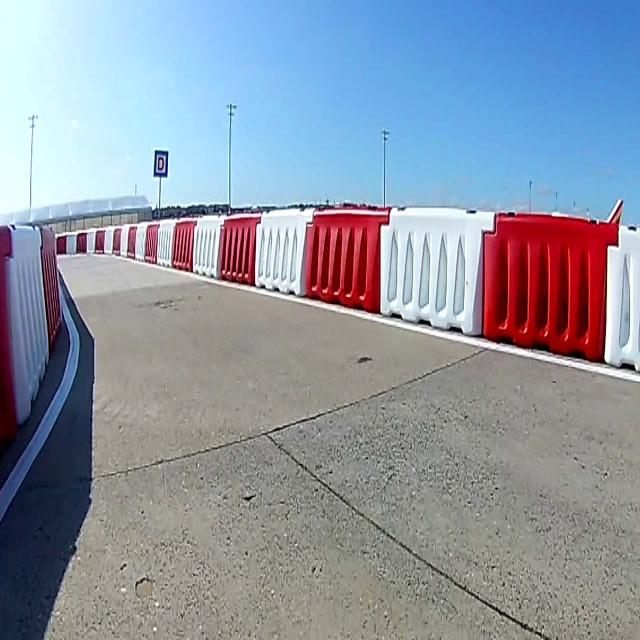durak: (154, 150, 168, 178)
